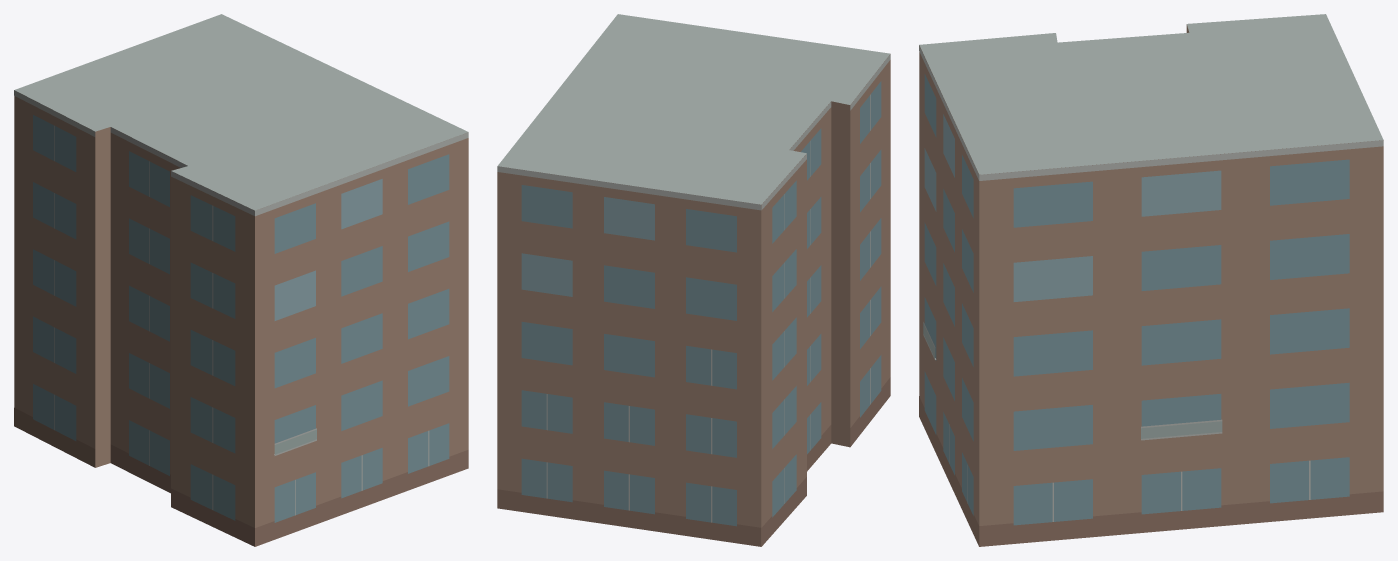
The model's file is survey-upis-33002214.glb.
3 views of the same model, side by side, from view 1: azimuth 30°, elevation 25°; view 2: azimuth 150°, elevation 25°; view 3: azimuth 270°, elevation 25° (orthographic). The views are drawn at different scales.
Parts seen in each view (by area): view 1: survey-upis-33002214.tmp; view 2: survey-upis-33002214.tmp; view 3: survey-upis-33002214.tmp.
Boxes of the visible parts, x1,y1,x2,y2 form: survey-upis-33002214.tmp: (14, 14, 468, 546); survey-upis-33002214.tmp: (497, 14, 890, 546); survey-upis-33002214.tmp: (919, 14, 1383, 546).
Size of the model in its own units: 13.4 by 14.45 by 16.36.
